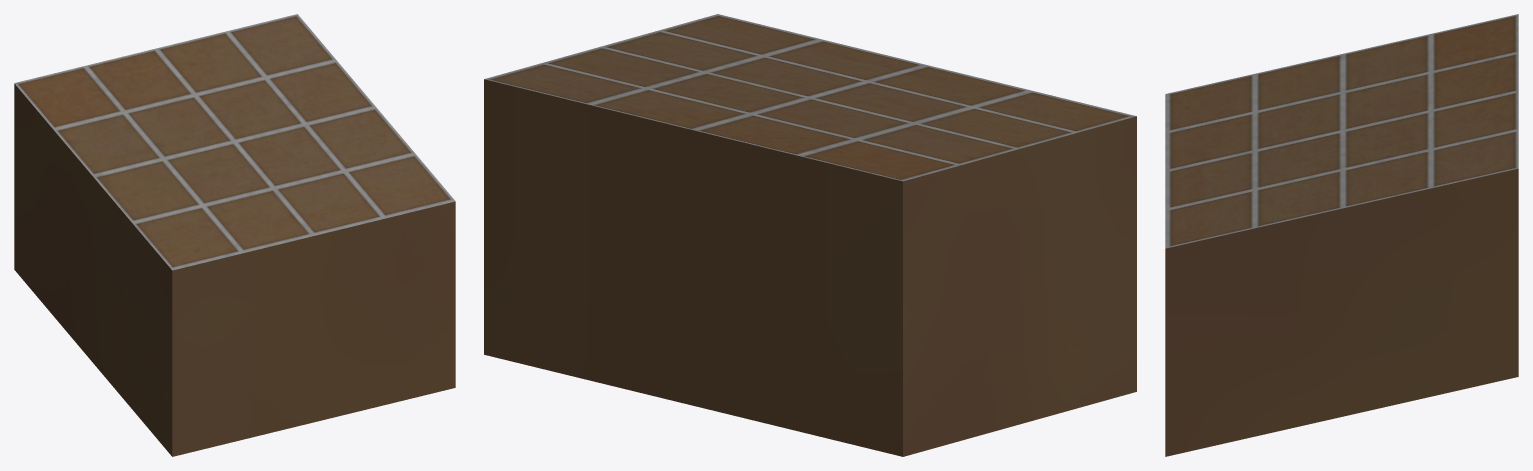
The model's file is set_floor_02_slope_loop_half.fbx.
The picture shows the model from 3 angles, left to right: view 1: azimuth 30°, elevation 25°; view 2: azimuth 150°, elevation 25°; view 3: azimuth 270°, elevation 25°; orthographic projection. The views are drawn at different scales.
Visible parts, largest first — view 1: set_floor_02_slope_loop_half; view 2: set_floor_02_slope_loop_half; view 3: set_floor_02_slope_loop_half.
Part boxes in pixels (x1,y1,x2,y2): set_floor_02_slope_loop_half: [14, 14, 455, 456]; set_floor_02_slope_loop_half: [484, 14, 1136, 456]; set_floor_02_slope_loop_half: [1165, 14, 1518, 456].
Size of the model in its own units: 100 by 87 by 96.64.
